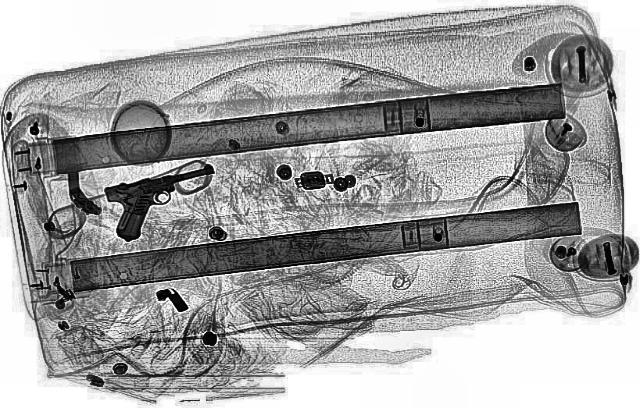Gun: (89, 164, 244, 240)
